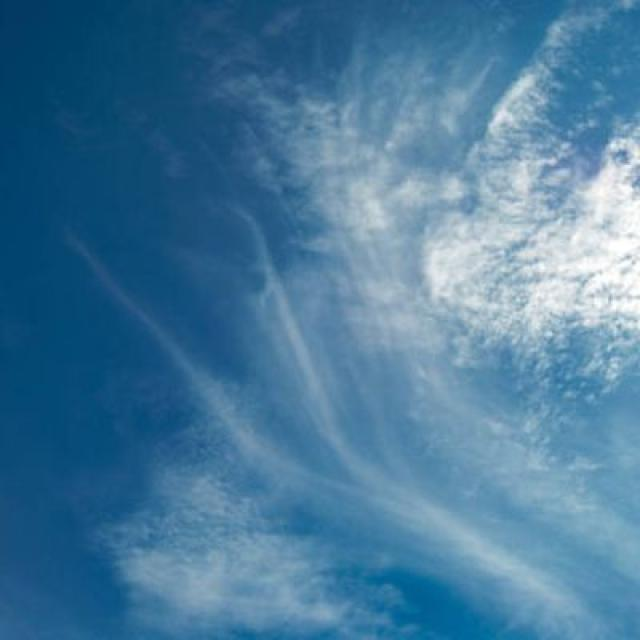As: (24, 63, 640, 573)
